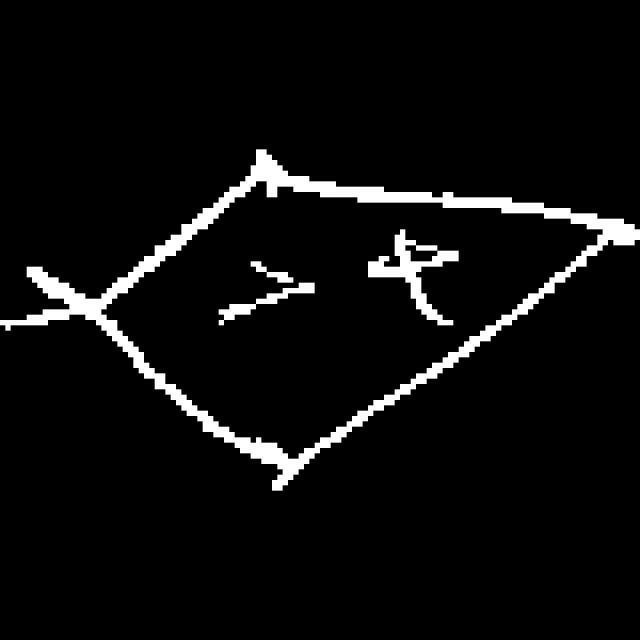dependant_voltage: (92, 152, 602, 490)
